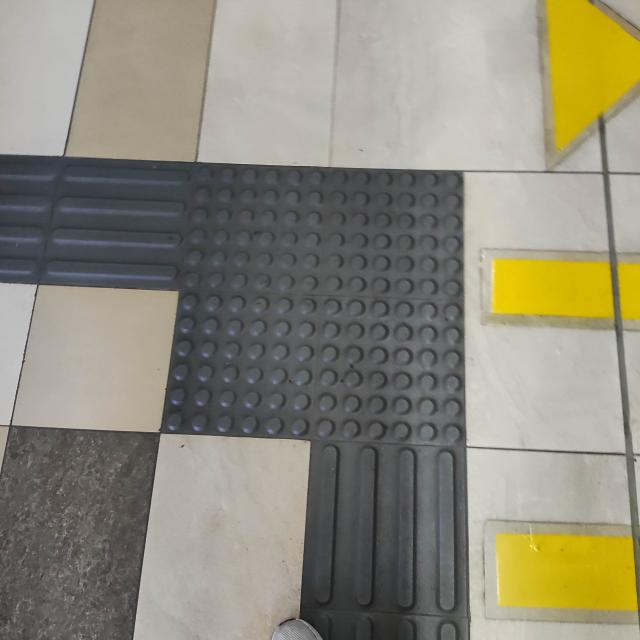kiri: (0, 91, 536, 539)
